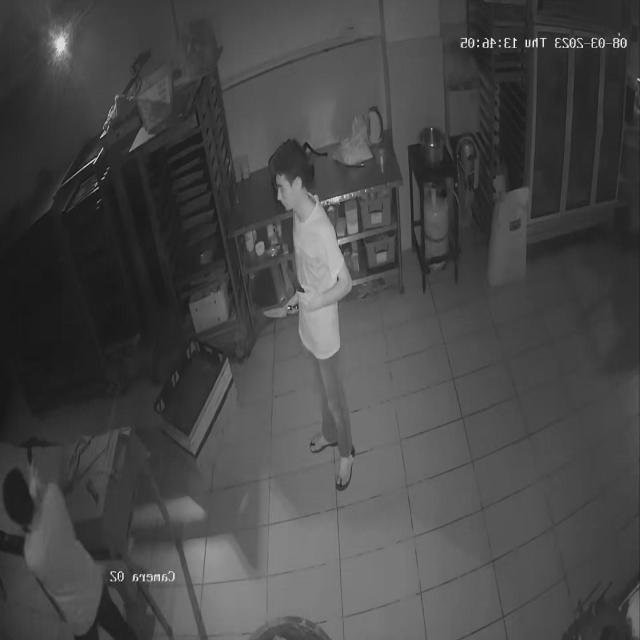Knife: (254, 293, 308, 330)
